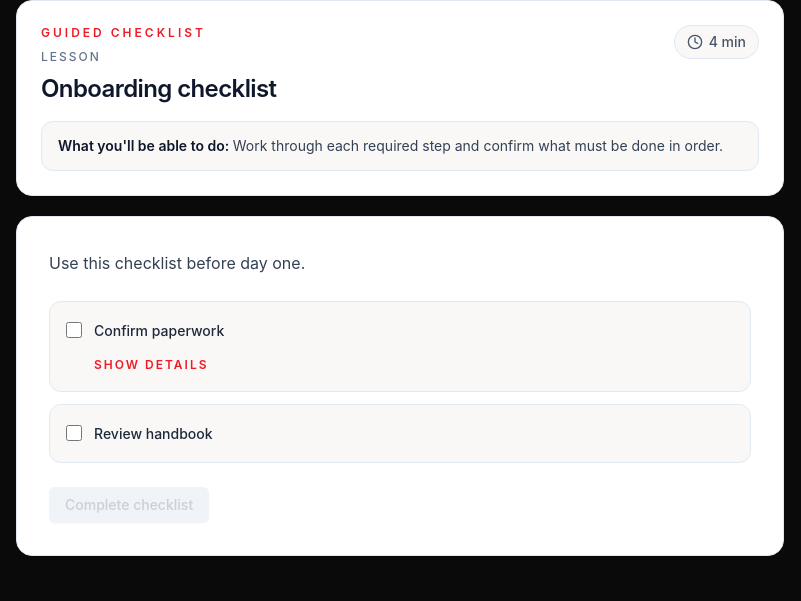
Test case: LessonContentRenderer checklist lessons › toggles checklist details with accessible expansion controls
Click the button "Show details" at (151, 365), box [94,357,208,373]
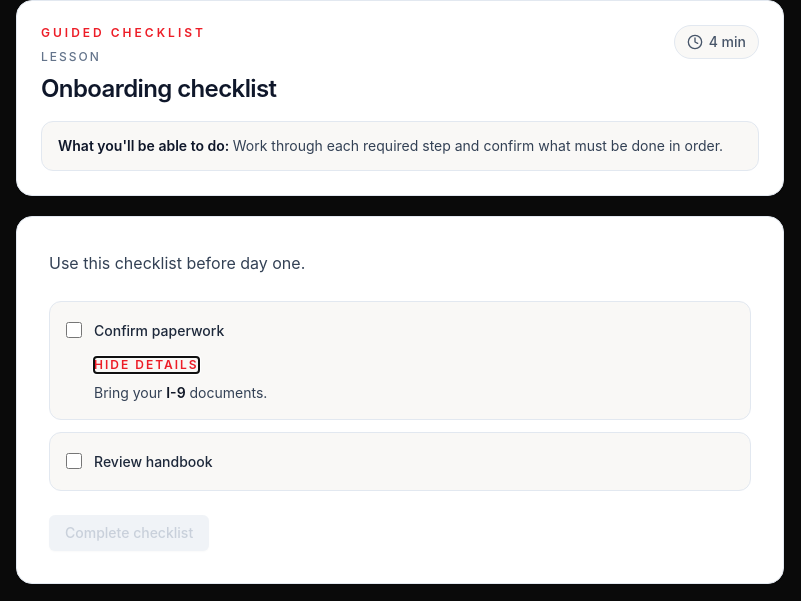
Check: the button named "show details" is expanded, box [94,357,199,373]
Check: the text "Bring your I-9 documents." is shown, box [94,384,267,401]
